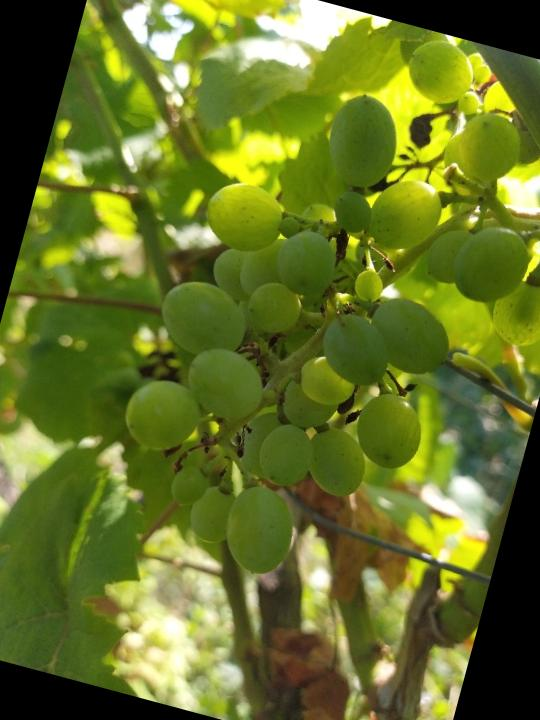grape: (88, 0, 540, 634)
